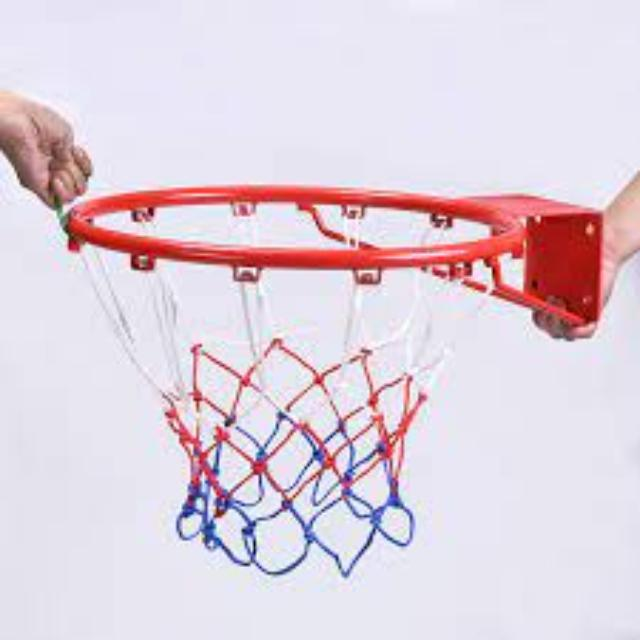rim: (69, 184, 521, 578)
